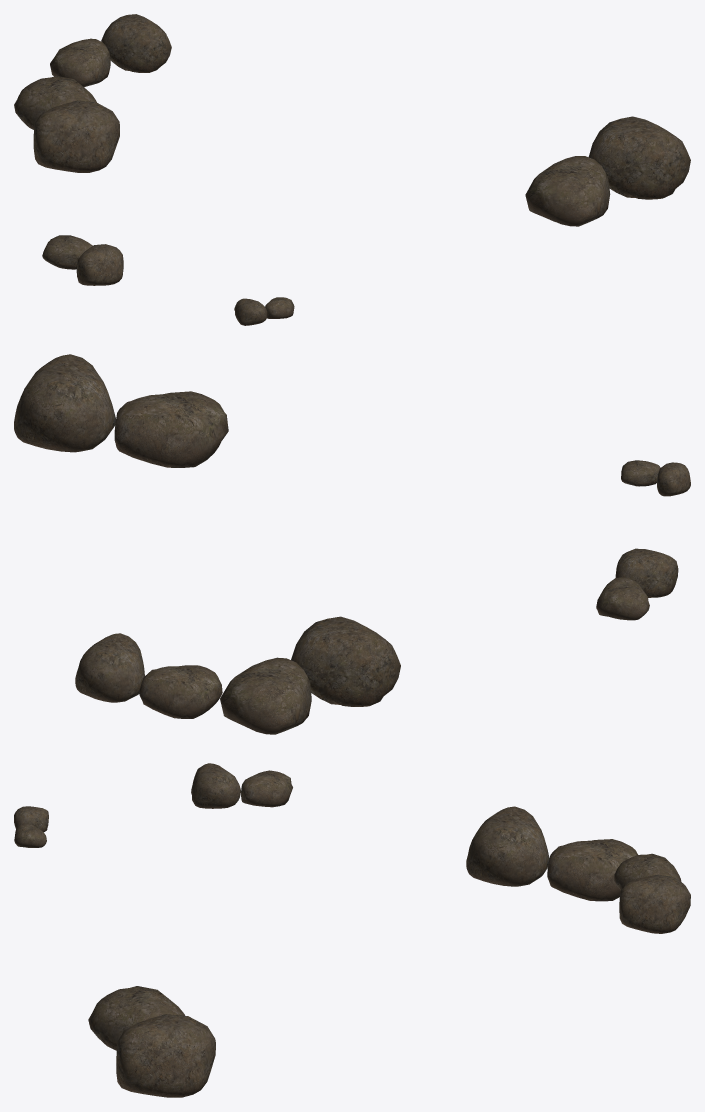
Rendered from loose_rocks.obj.
The picture shows the model from 3 angles, top to bottom: view 1: azimuth 30°, elevation 25°; view 2: azimuth 150°, elevation 25°; view 3: azimuth 270°, elevation 25°; orthographic projection. The views are drawn at different scales.
Parts seen in each view (by area): view 1: loose_rocks05, loose_rocks02, loose_rocks01, loose_rocks03, loose_rocks04; view 2: loose_rocks05, loose_rocks02, loose_rocks01, loose_rocks03, loose_rocks04; view 3: loose_rocks05, loose_rocks02, loose_rocks01, loose_rocks03, loose_rocks04.
Part boxes in pixels (x1,y1,x2,y2): loose_rocks05: (525, 116, 690, 226); loose_rocks02: (14, 75, 119, 172); loose_rocks01: (50, 14, 171, 87); loose_rocks03: (42, 235, 123, 285); loose_rocks04: (234, 297, 294, 325); loose_rocks05: (14, 354, 228, 467); loose_rocks02: (220, 616, 400, 734); loose_rocks01: (75, 633, 222, 718); loose_rocks03: (596, 548, 678, 620); loose_rocks04: (621, 460, 690, 496); loose_rocks05: (88, 986, 215, 1097); loose_rocks02: (466, 806, 637, 901); loose_rocks01: (614, 853, 690, 933); loose_rocks03: (191, 763, 292, 808); loose_rocks04: (14, 806, 48, 847).
Bounding box in the file's own units: 15.01 × 1.54 × 14.31.
1 material, 1 textured.
